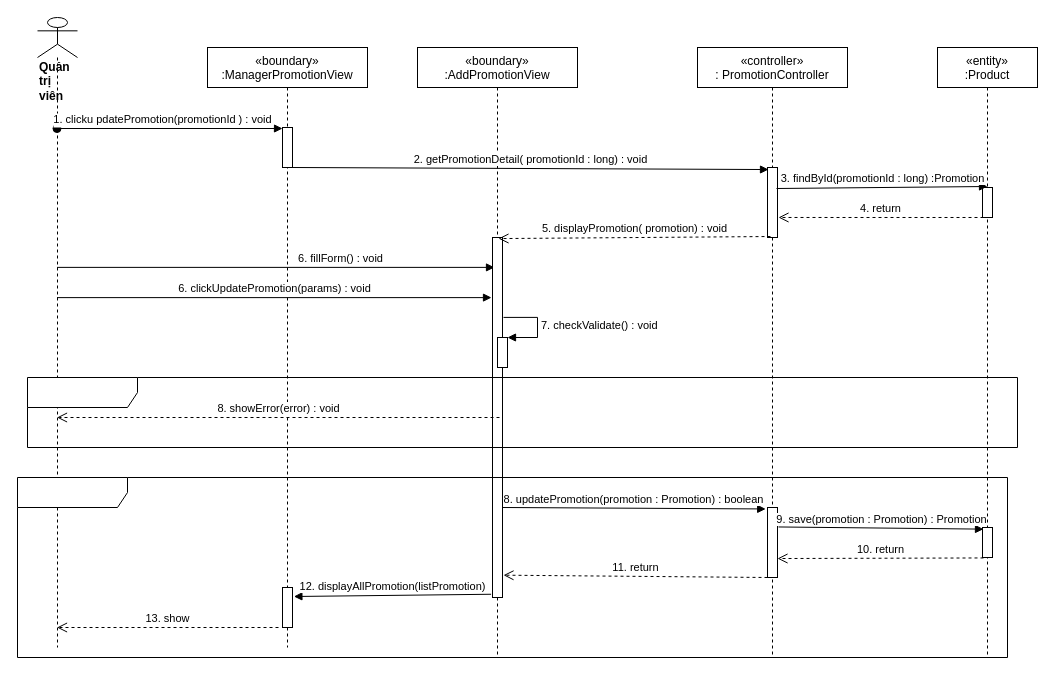
Image size: 1055x675. Some labels were removed from this diagram. Each missing label, with the centre of its shape:
"validate false" belongs at (522,412).
"validate true" belongs at (512,567).
